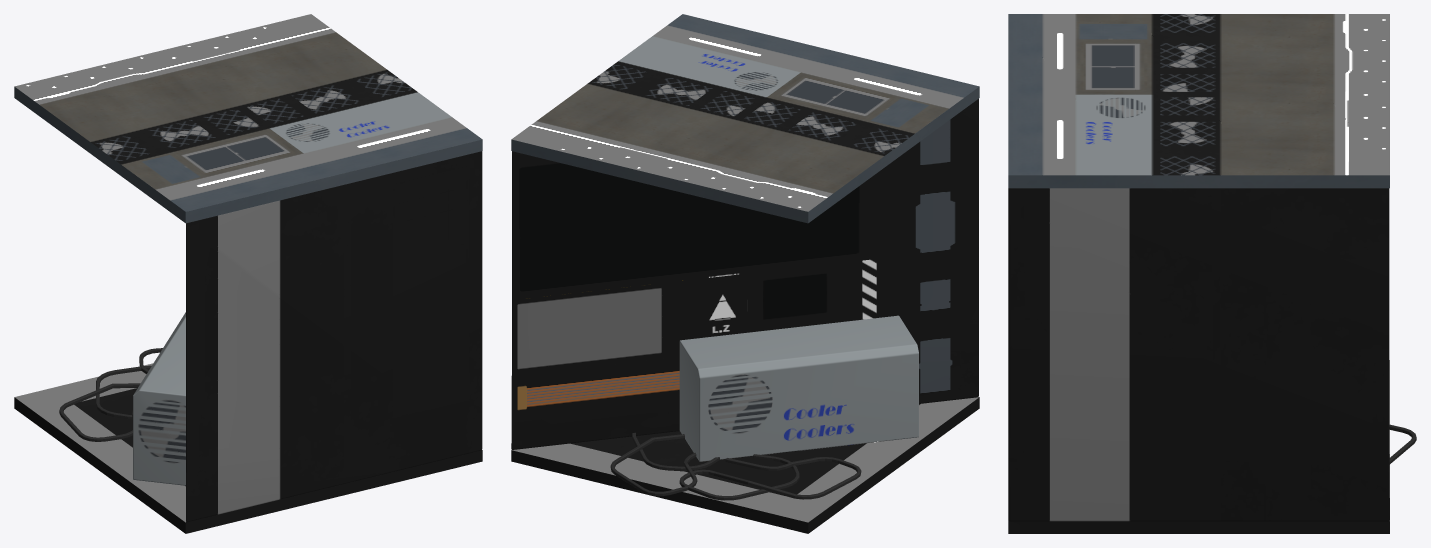
File: Corner invert variation 2.fbx
3 renders of one model, left to right at view 1: azimuth 30°, elevation 25°; view 2: azimuth 150°, elevation 25°; view 3: azimuth 270°, elevation 25°, orthographic. The views are drawn at different scales.
Visible parts, largest first — view 1: Cube, Plane.001, Plane, Cube.001, Cube.002; view 2: Cube, Plane.001, Cube.001, Plane, Cube.002; view 3: Cube, Plane.001, Plane.
Part boxes in pixels (bbox=[...]): Cube: bbox=[186, 151, 482, 522]; Plane.001: bbox=[14, 14, 482, 223]; Plane: bbox=[14, 363, 482, 533]; Cube.001: bbox=[133, 312, 185, 485]; Cube.002: bbox=[59, 348, 162, 441]; Cube: bbox=[511, 99, 978, 449]; Plane.001: bbox=[511, 14, 979, 223]; Cube.001: bbox=[679, 315, 918, 461]; Plane: bbox=[511, 397, 979, 533]; Cube.002: bbox=[610, 432, 861, 500]; Cube: bbox=[1008, 188, 1389, 521]; Plane.001: bbox=[1008, 14, 1389, 188]; Plane: bbox=[1008, 360, 1389, 533].
Size of the model in its own units: 200 by 207 by 214.
